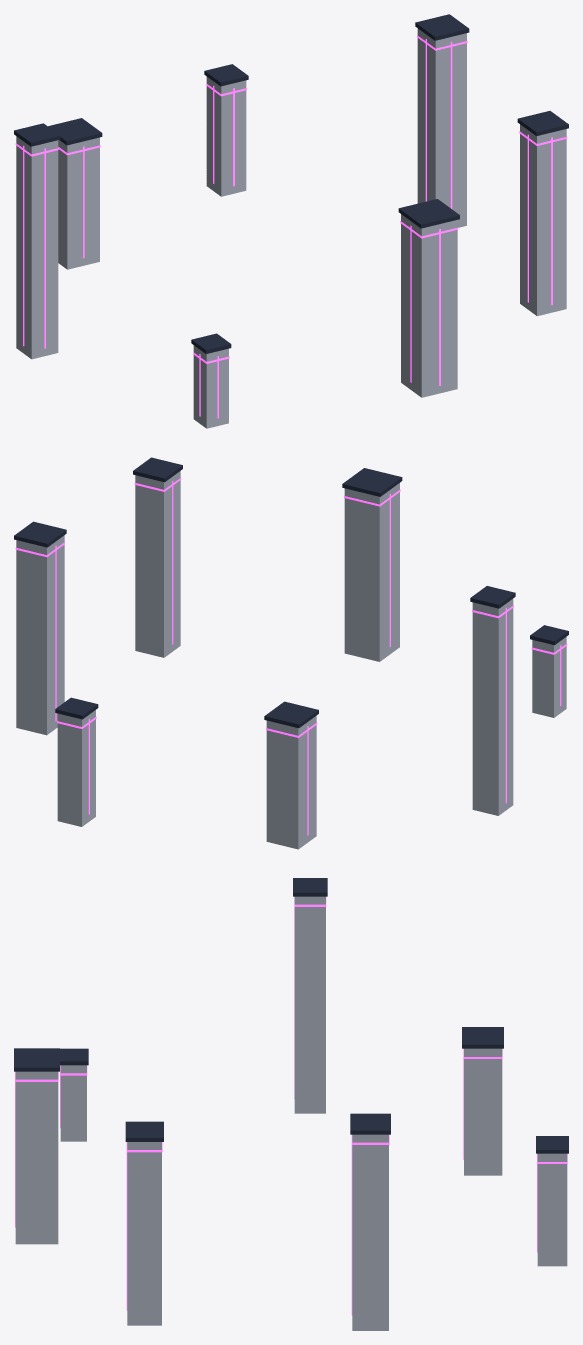
The picture shows the model from 3 angles, top to bottom: view 1: azimuth 30°, elevation 25°; view 2: azimuth 150°, elevation 25°; view 3: azimuth 270°, elevation 25°; orthographic projection. The views are drawn at different scales.
Parts seen in each view (by area): view 1: nexo_spires_pixel.lod1; view 2: nexo_spires_pixel.lod1; view 3: nexo_spires_pixel.lod1.
Boxes of the visible parts, x1=… form: nexo_spires_pixel.lod1: x1=14, y1=14, x2=568, y2=428; nexo_spires_pixel.lod1: x1=14, y1=457, x2=568, y2=849; nexo_spires_pixel.lod1: x1=14, y1=878, x2=568, y2=1330.
Bounding box in the file's own units: 25.19 × 11.22 × 25.46.
